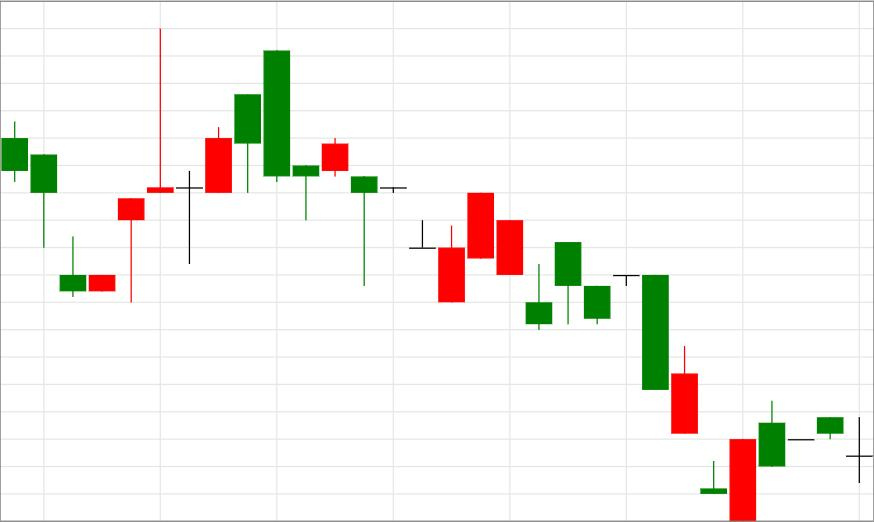bullish_engulfing_rise: (555, 243, 756, 522)
